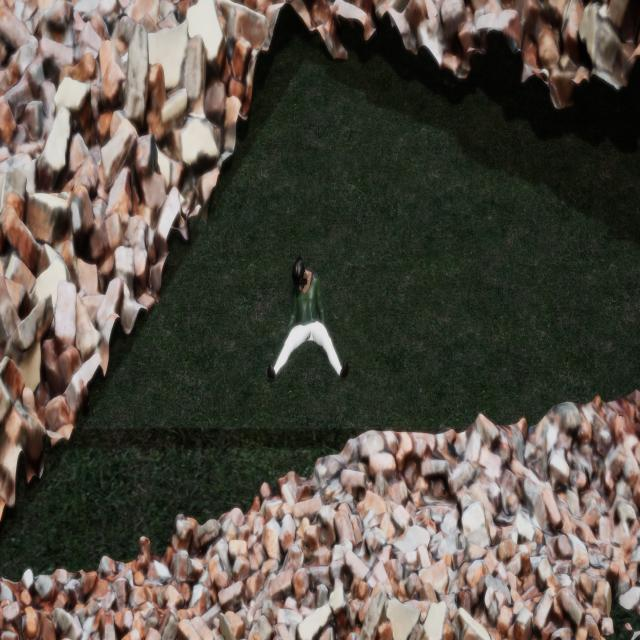Human: (263, 242, 353, 405)
